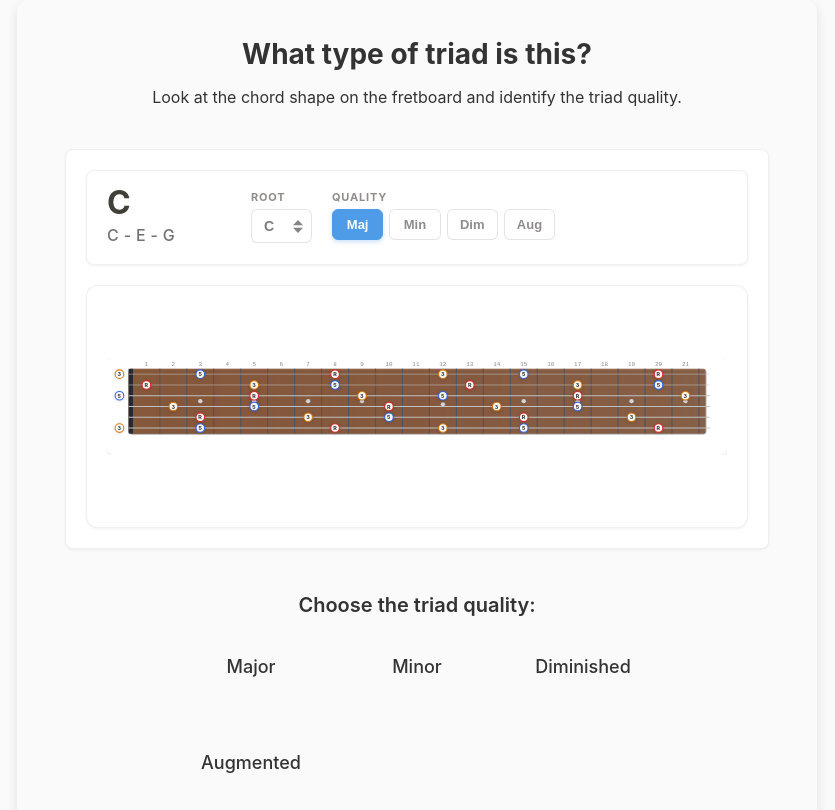
Test: RecognitionMode Component › User Interactions › shows incorrect feedback for wrong answer
What coordinates should you click on to do the following:
click the radio button showing "minor"
I would click on:
 (473, 665)
Its box is [392,654,553,677].
(page scrolled)
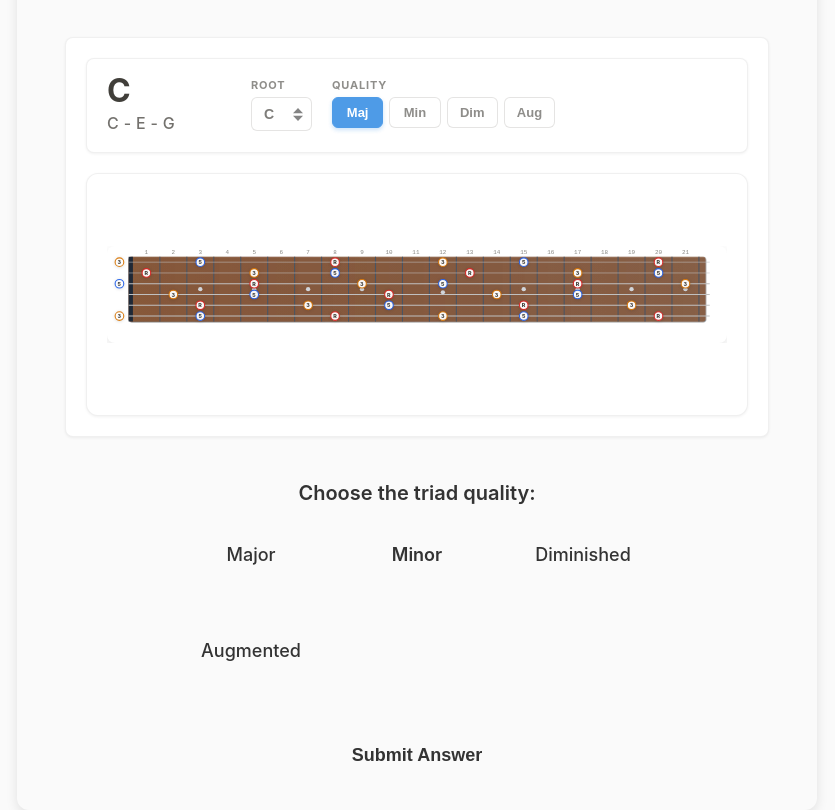
What coordinates should you click on to do the following:
click the button "Submit Answer"
I would click on:
 (417, 755)
Its box is [320,733,514,778].
(page scrolled)
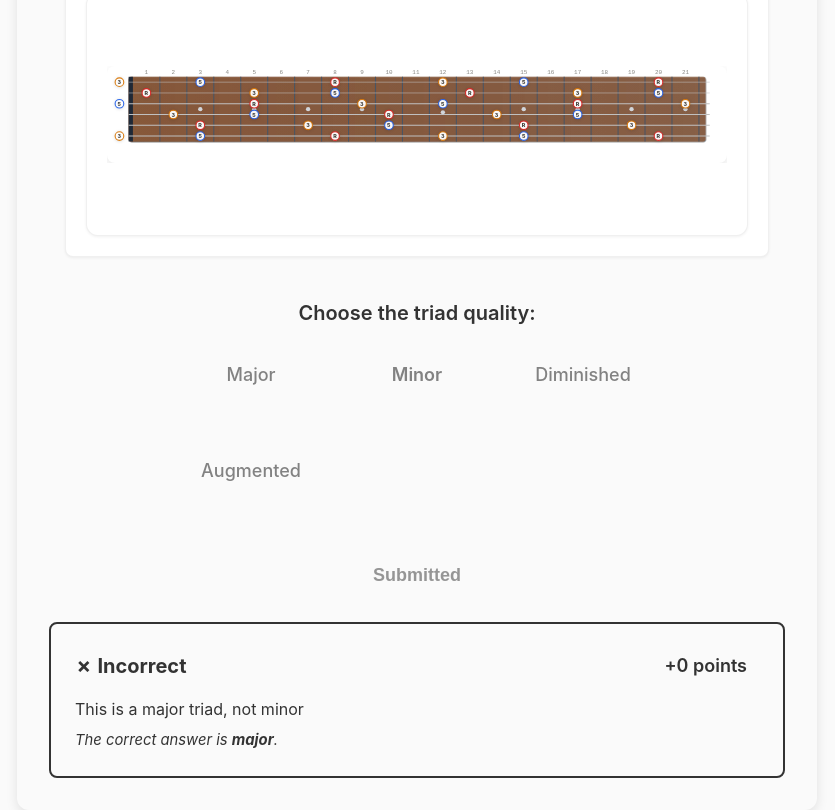
Check: the text "✗ Incorrect" is shown, box [75,650,186,682]
Check: the text "This is a major triad, not minor" is shown, box [75,699,304,719]
Check: the text "The correct answer is major." is shown, box [75,731,278,749]
